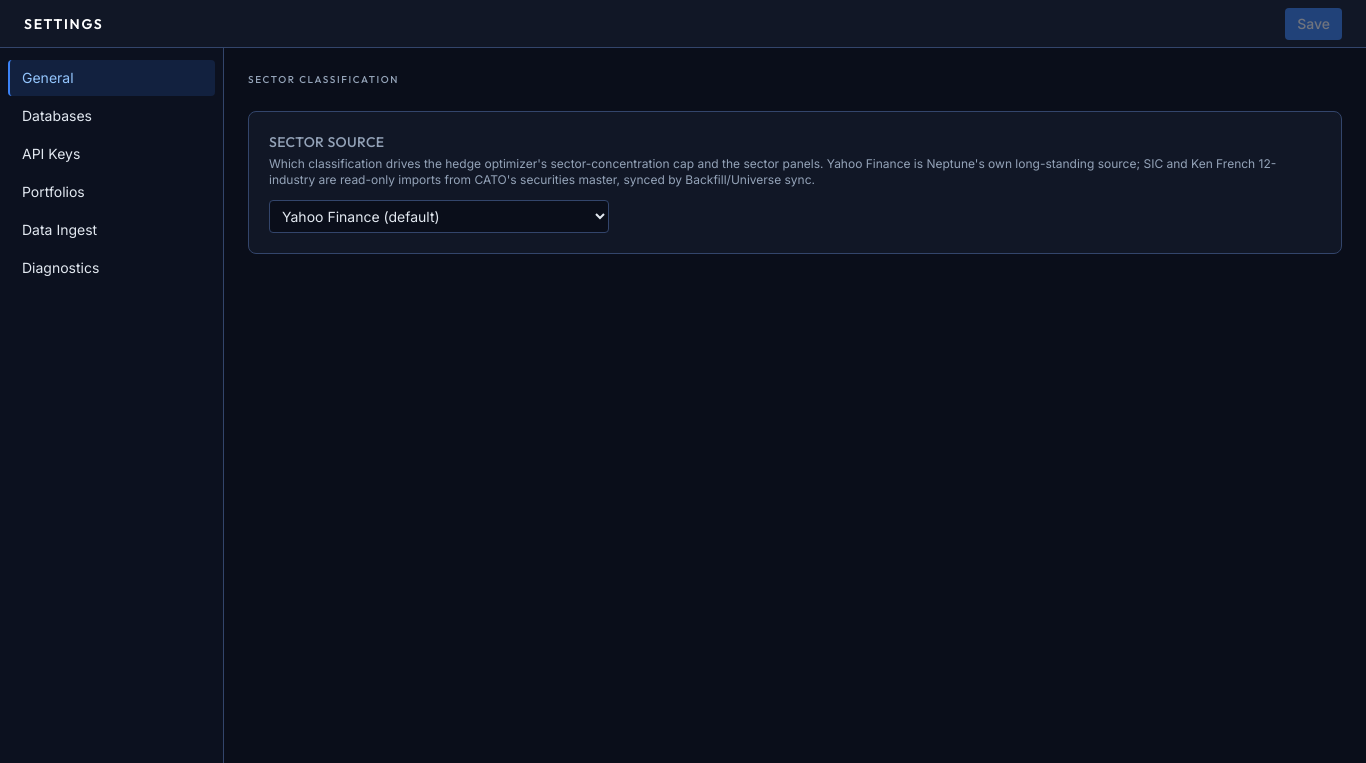
Scenario: Settings › backfills Ken French factors and reports the observation count
The width and height of the screenshot is (1366, 763).
Click the button "Data Ingest". click: {"x": 112, "y": 230}
box: [8,212,215,248]
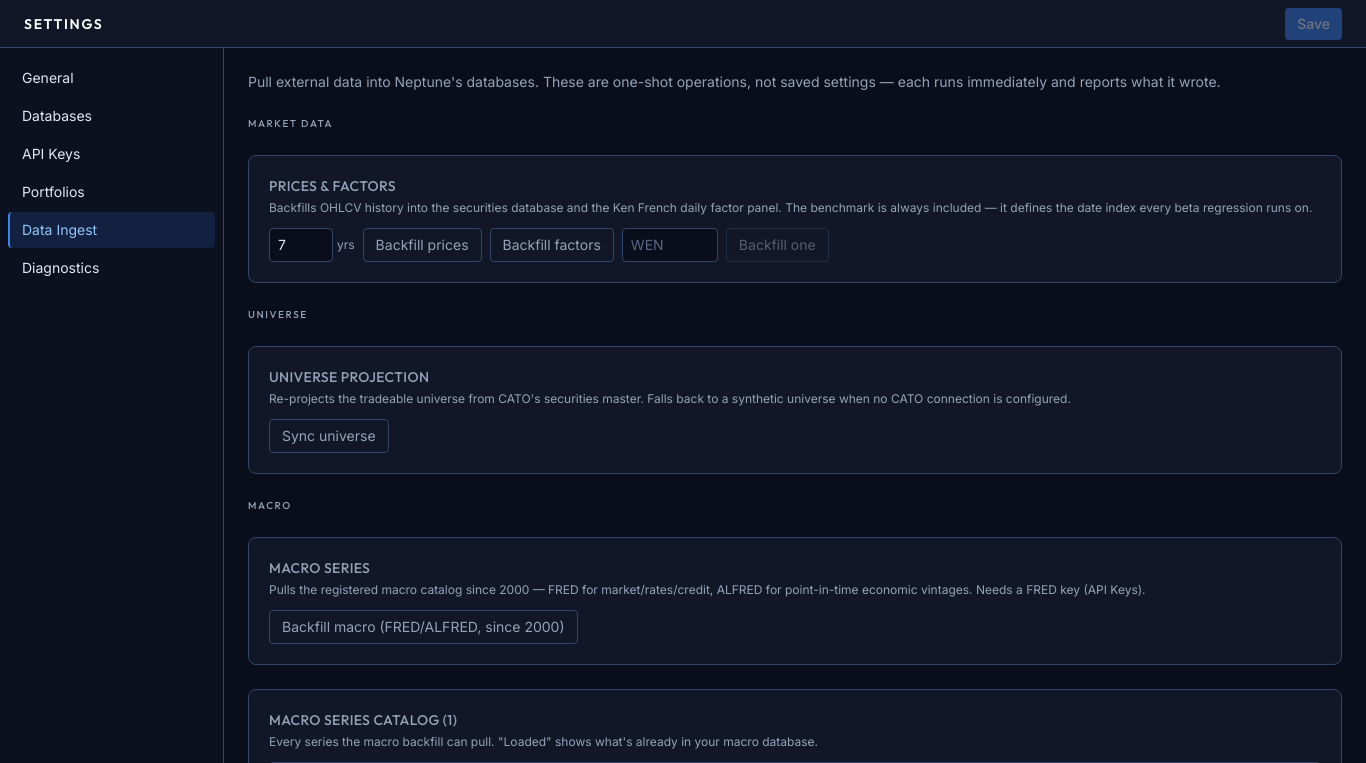
Click the button "Backfill factors". click: {"x": 552, "y": 245}
box: [490,228,614,262]
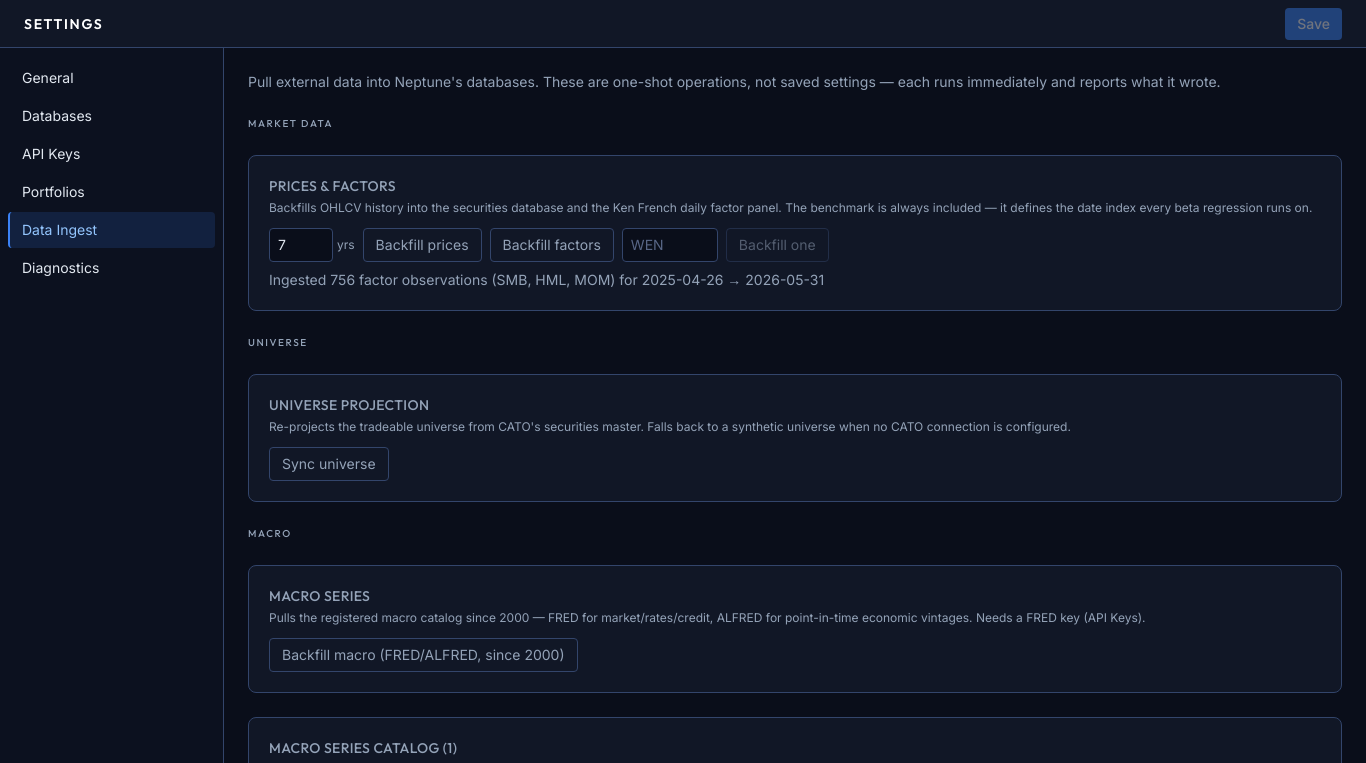
Expected: the text "Ingested 756 factor observations" is shown, [269,271,824,288]
